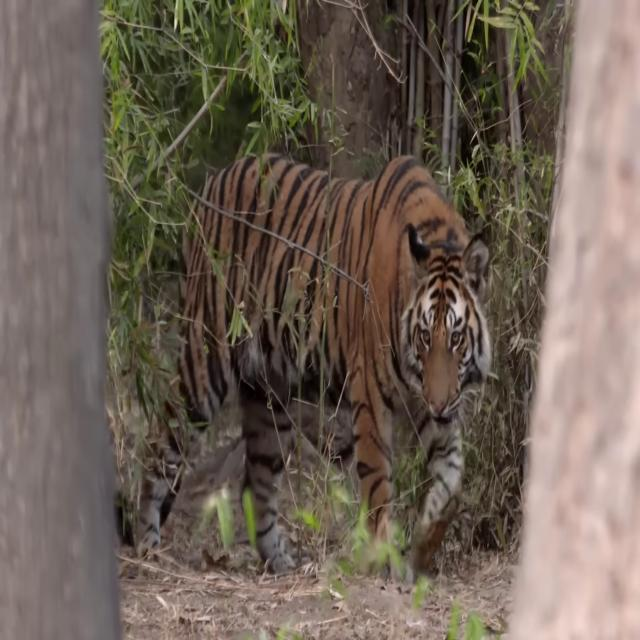tiger: (135, 151, 491, 585)
